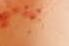plaque psoriasis: (12, 4, 42, 21), (0, 10, 8, 29)
